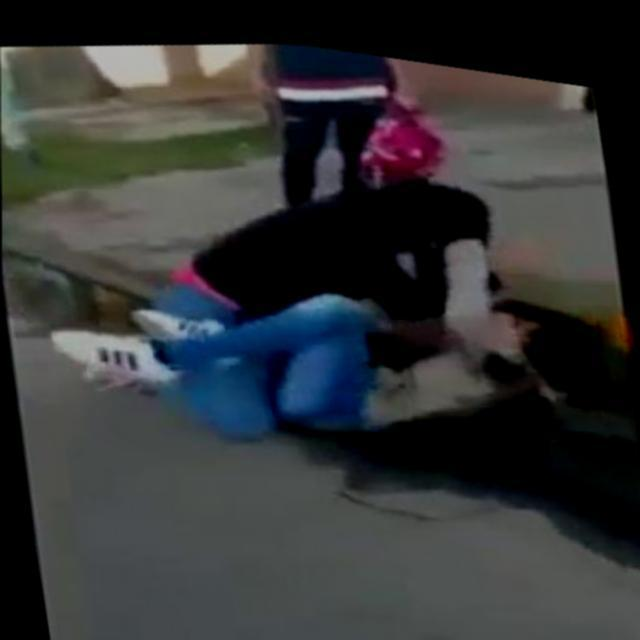fight: (80, 52, 601, 508)
